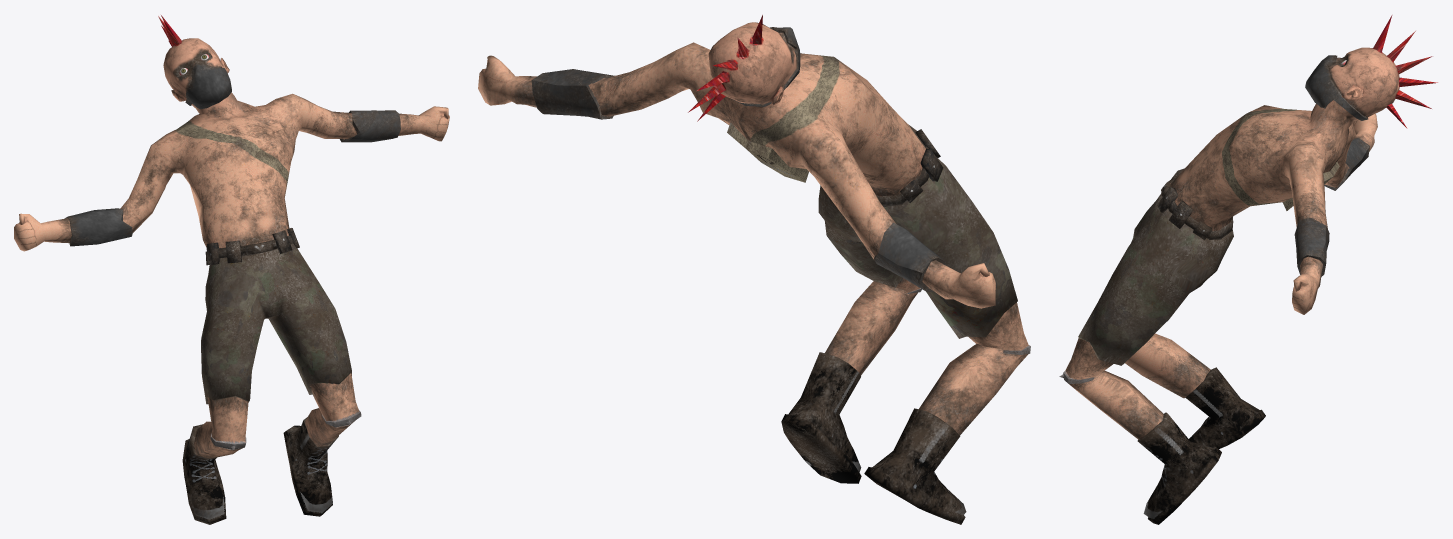
The model's file is Anim_morir_1_npc2.0021.obj.
3 renders of one model, left to right at view 1: azimuth 30°, elevation 25°; view 2: azimuth 150°, elevation 25°; view 3: azimuth 270°, elevation 25°, orthographic. The views are drawn at different scales.
Visible parts, largest first — view 1: polySurface1; view 2: polySurface1; view 3: polySurface1.
Part boxes in pixels (left/top/right/bottom): polySurface1: left=14, top=15, right=449, bottom=524; polySurface1: left=478, top=15, right=1030, bottom=524; polySurface1: left=1059, top=15, right=1437, bottom=524.
Bounding box in the file's own units: 7.83 × 8.02 × 5.73.
Materials: 2 (2 with a texture image).
